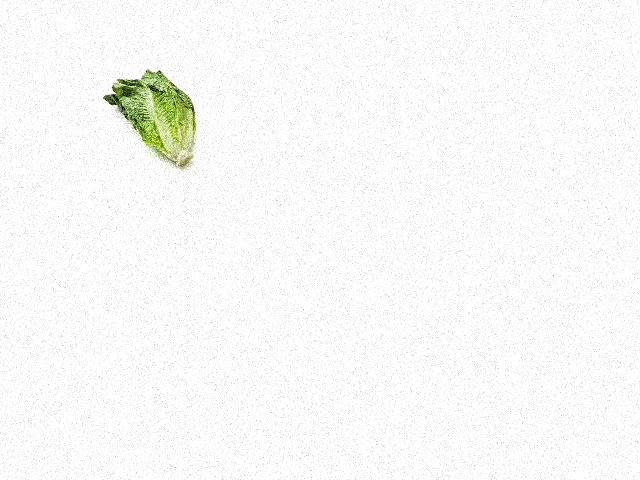lettuce: (104, 65, 198, 163)
